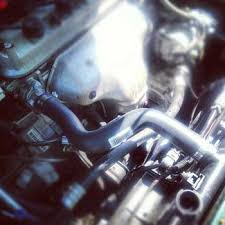radiator_hose: (36, 91, 207, 160)
